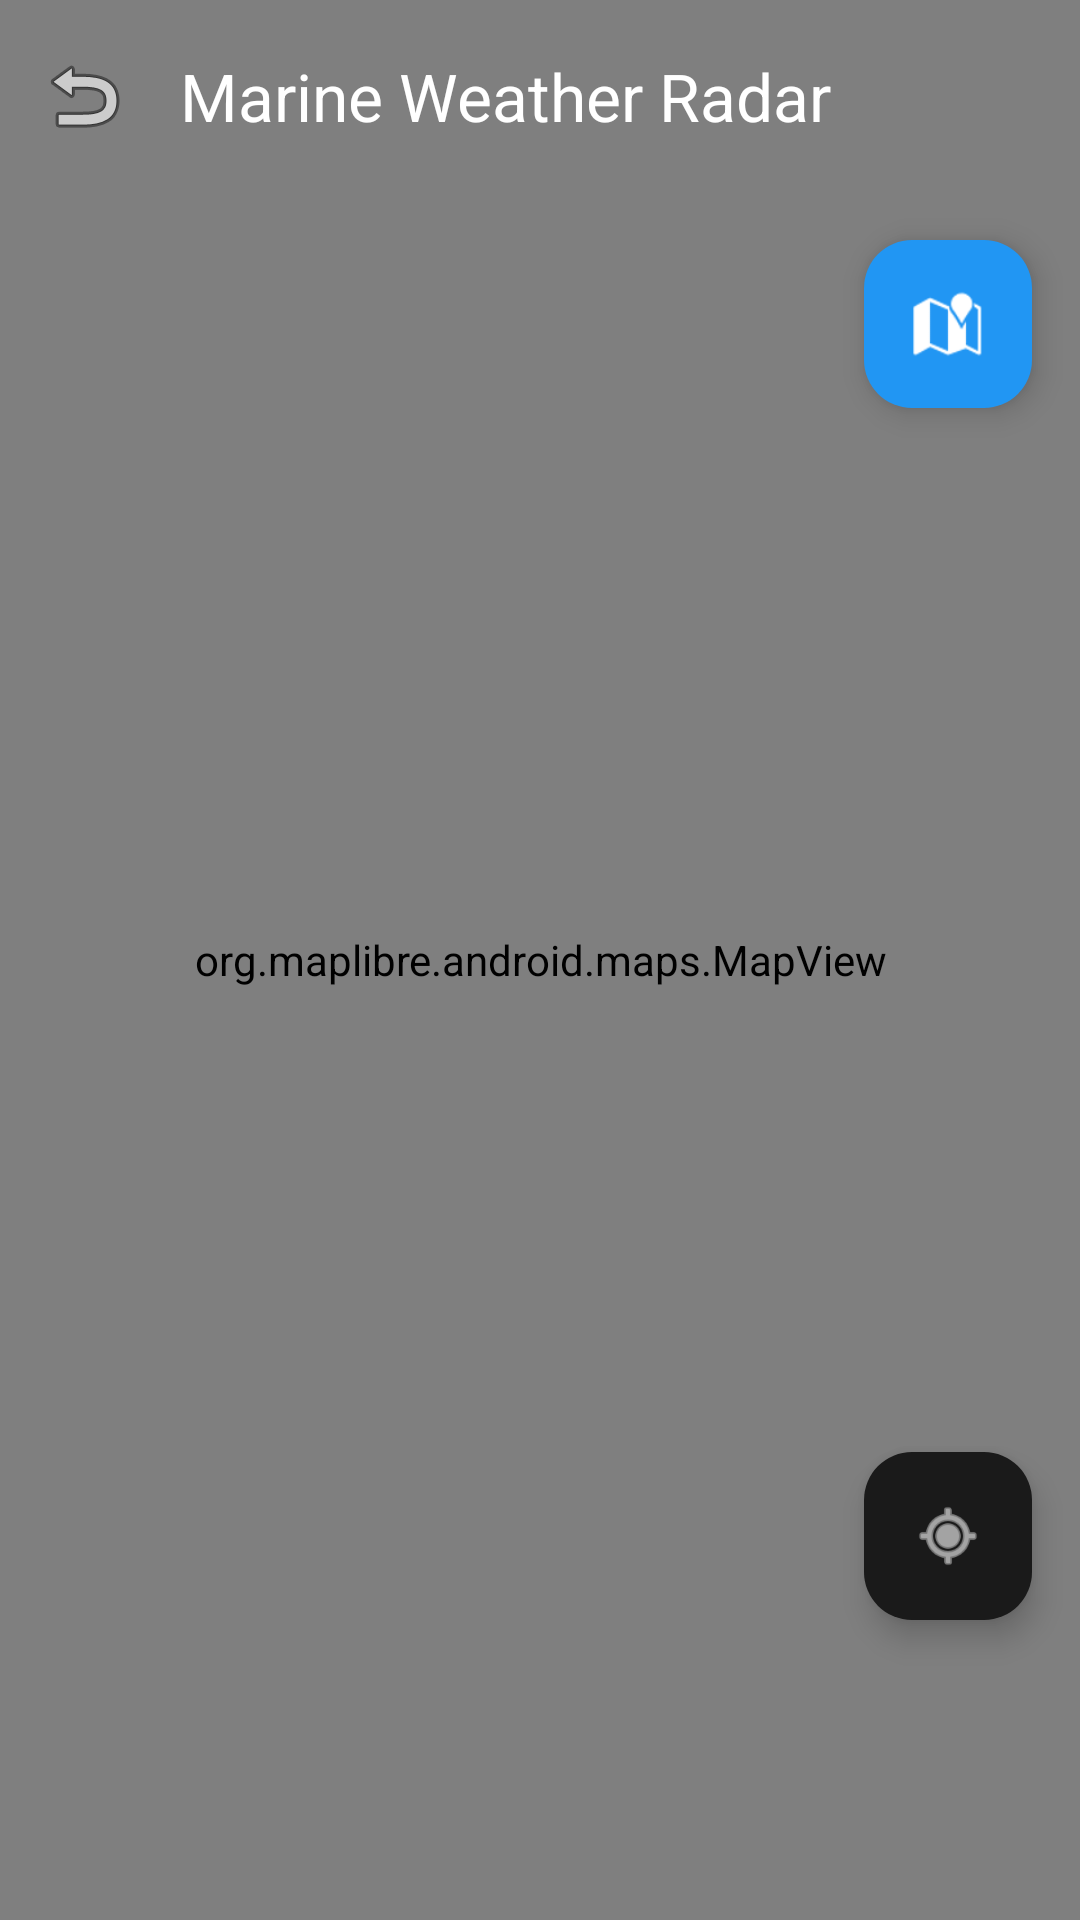

Screen size 1080 x 1920. Icon name, then its box in pixels as (x1, y1, x2, y2):
map: (864, 240, 1032, 408)
mylocation: (864, 1452, 1032, 1620)
